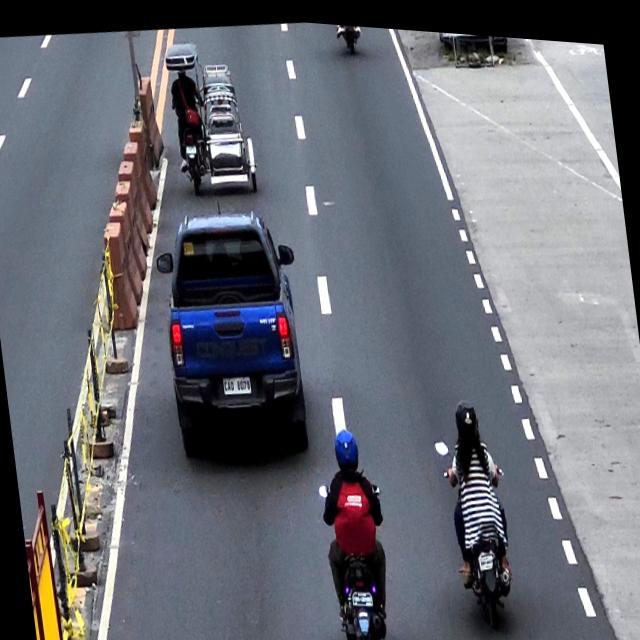Car: (151, 198, 317, 460)
License-Plate: (222, 370, 252, 394), (349, 583, 374, 604), (476, 544, 499, 565), (185, 140, 198, 153)
Motorcycle: (432, 424, 522, 629), (318, 472, 401, 640)
Tricycle: (163, 30, 260, 197)
